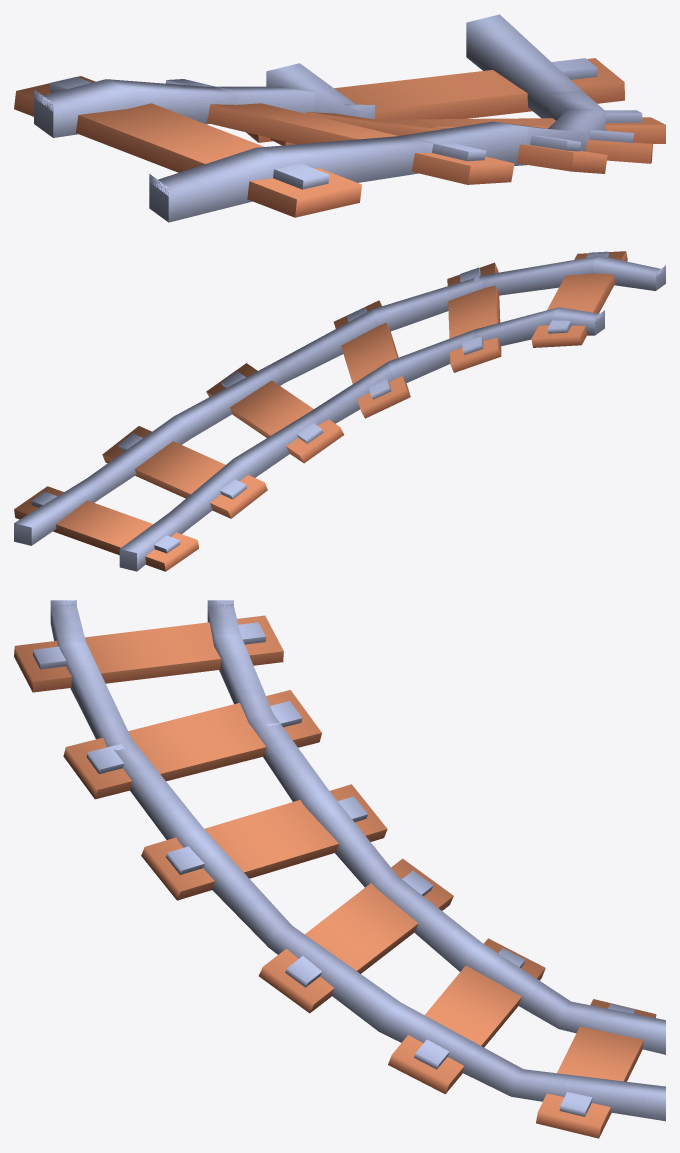
The model's file is railroad-damaged-corner-small-ramp.glb.
3 renders of one model, top to bottom at view 1: azimuth 30°, elevation 25°; view 2: azimuth 150°, elevation 25°; view 3: azimuth 270°, elevation 25°, orthographic. The views are drawn at different scales.
Parts seen in each view (by area): view 1: railroad-damaged-corner-small-ramp; view 2: railroad-damaged-corner-small-ramp; view 3: railroad-damaged-corner-small-ramp.
Boxes of the visible parts, x1,y1,x2,y2 form: railroad-damaged-corner-small-ramp: (14, 14, 665, 222); railroad-damaged-corner-small-ramp: (14, 251, 665, 571); railroad-damaged-corner-small-ramp: (14, 600, 665, 1138).
Size of the model in its own units: 2.49 by 1.11 by 2.49.
1 material, 1 textured.
